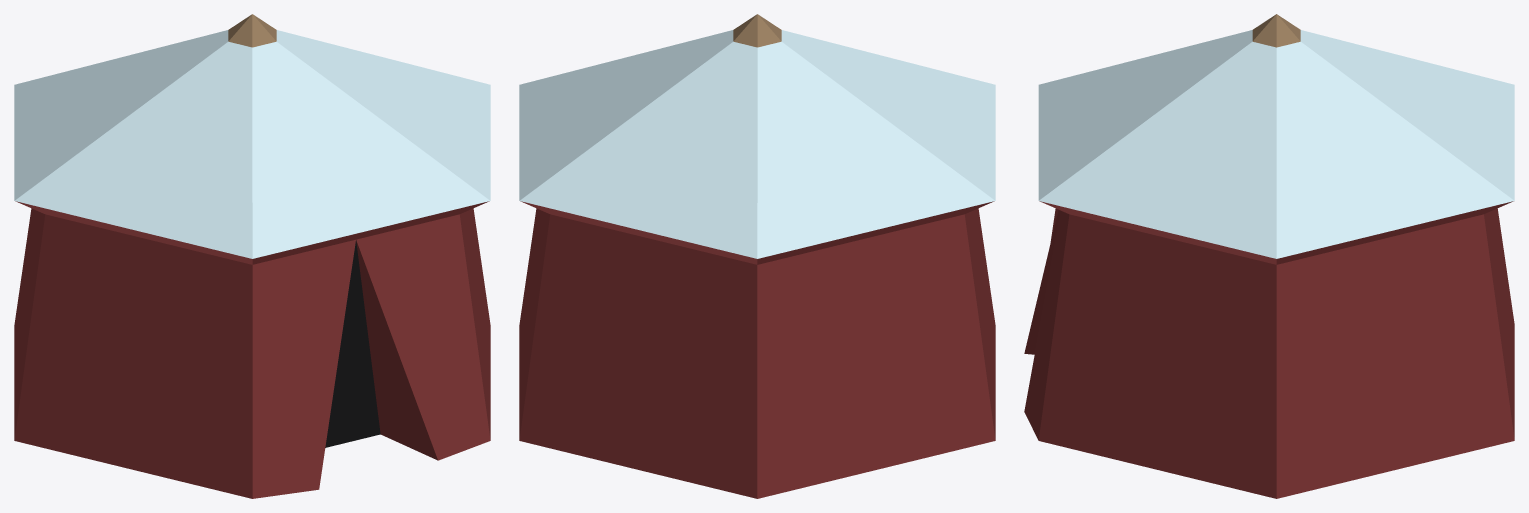
The model's file is SM_Bld_Knights_Tent_02_Snow.fbx.
3 views of the same model, side by side, from view 1: azimuth 30°, elevation 25°; view 2: azimuth 150°, elevation 25°; view 3: azimuth 270°, elevation 25° (orthographic).
Visible parts, largest first — view 1: SM_Bld_Knights_Tent_02_Snow; view 2: SM_Bld_Knights_Tent_02_Snow; view 3: SM_Bld_Knights_Tent_02_Snow.
Part boxes in pixels (left/top/right/bottom): SM_Bld_Knights_Tent_02_Snow: left=14, top=14, right=490, bottom=498; SM_Bld_Knights_Tent_02_Snow: left=519, top=14, right=995, bottom=498; SM_Bld_Knights_Tent_02_Snow: left=1024, top=14, right=1514, bottom=498.
Bounding box in the file's own units: 113 × 83.53 × 101.
Materials: 1 (1 with a texture image).
